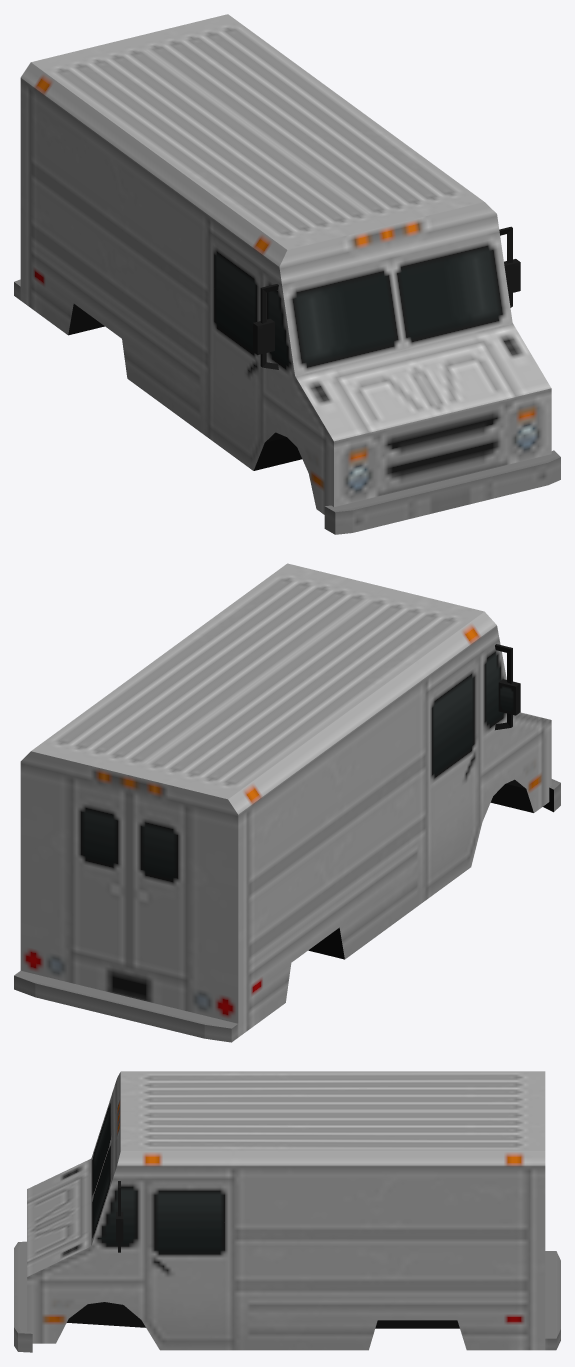
Rendered from Car8.obj.
The picture shows the model from 3 angles, top to bottom: view 1: azimuth 30°, elevation 25°; view 2: azimuth 150°, elevation 25°; view 3: azimuth 270°, elevation 25°; orthographic projection. The views are drawn at different scales.
Visible parts, largest first — view 1: Car8; view 2: Car8; view 3: Car8.
Boxes of the visible parts, left/top/right/bottom form: Car8: left=14, top=14, right=560, bottom=534; Car8: left=14, top=563, right=560, bottom=1042; Car8: left=14, top=1071, right=560, bottom=1352.
Bounding box in the file's own units: 3.17 × 2.71 × 6.89.
Materials: 1 (1 with a texture image).
